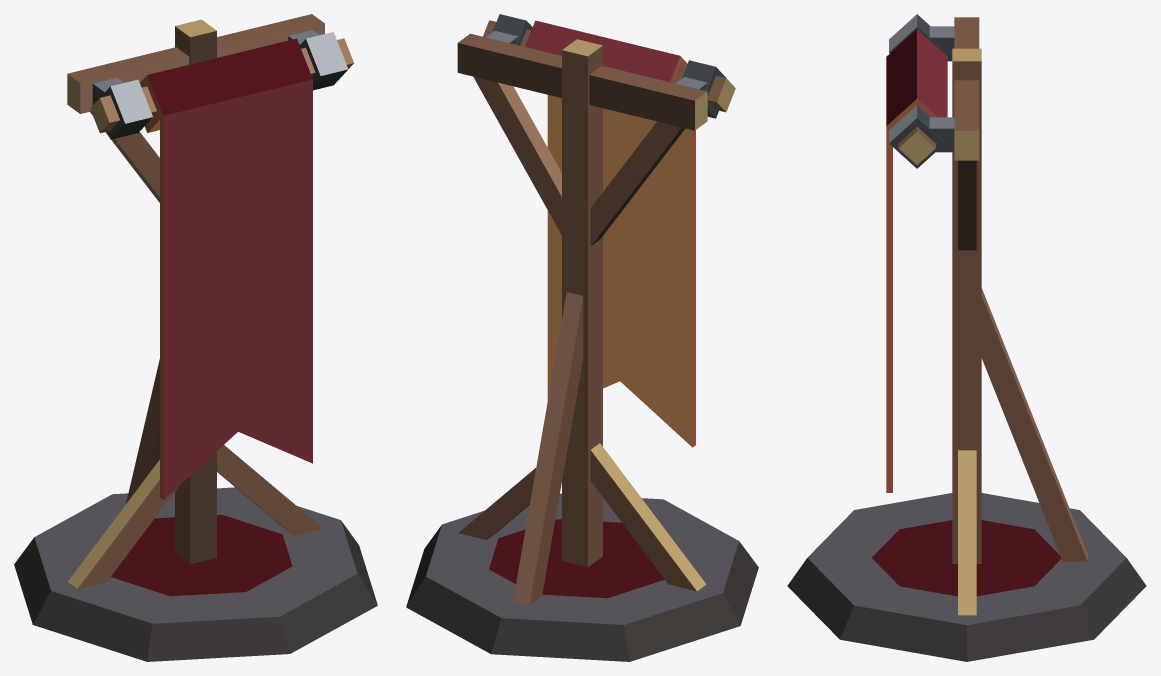
Rendered from TB_TowerDefense_EndFlag.FBX.
3 views of the same model, side by side, from view 1: azimuth 30°, elevation 25°; view 2: azimuth 150°, elevation 25°; view 3: azimuth 270°, elevation 25° (orthographic). The views are drawn at different scales.
Visible parts, largest first — view 1: TB_TowerDefense_Flag001; view 2: TB_TowerDefense_Flag001; view 3: TB_TowerDefense_Flag001.
Part boxes in pixels (<box>): TB_TowerDefense_Flag001: <box>14,14,377,661</box>; TB_TowerDefense_Flag001: <box>406,14,758,661</box>; TB_TowerDefense_Flag001: <box>787,14,1146,661</box>.
Size of the model in its own units: 2.31 by 3.76 by 2.31.
